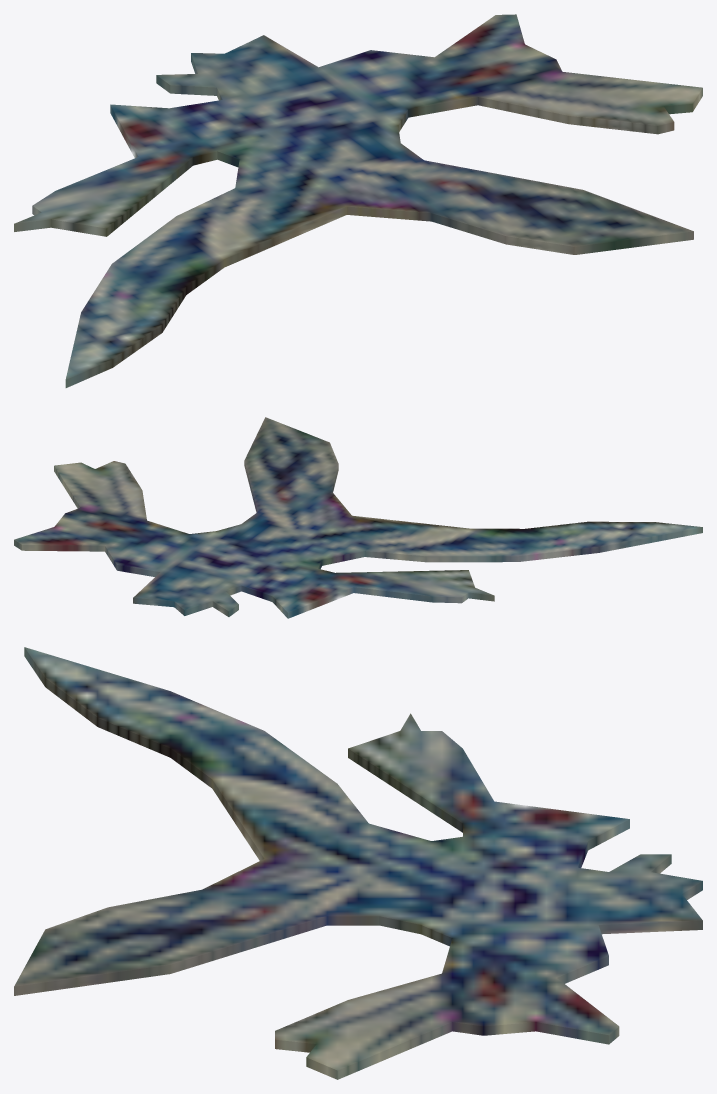
The model's file is RongBang.glb.
3 renders of one model, top to bottom at view 1: azimuth 30°, elevation 25°; view 2: azimuth 150°, elevation 25°; view 3: azimuth 270°, elevation 25°, orthographic. The views are drawn at different scales.
Visible parts, largest first — view 1: RongBang; view 2: RongBang; view 3: RongBang.
Boxes of the visible parts, box(x1,y1,x2,y2) form: RongBang: box(14, 14, 702, 387); RongBang: box(14, 417, 702, 618); RongBang: box(14, 647, 702, 1079).
Size of the model in its own units: 0.486 by 0.005 by 0.3341.
Materials: 1 (1 with a texture image).
